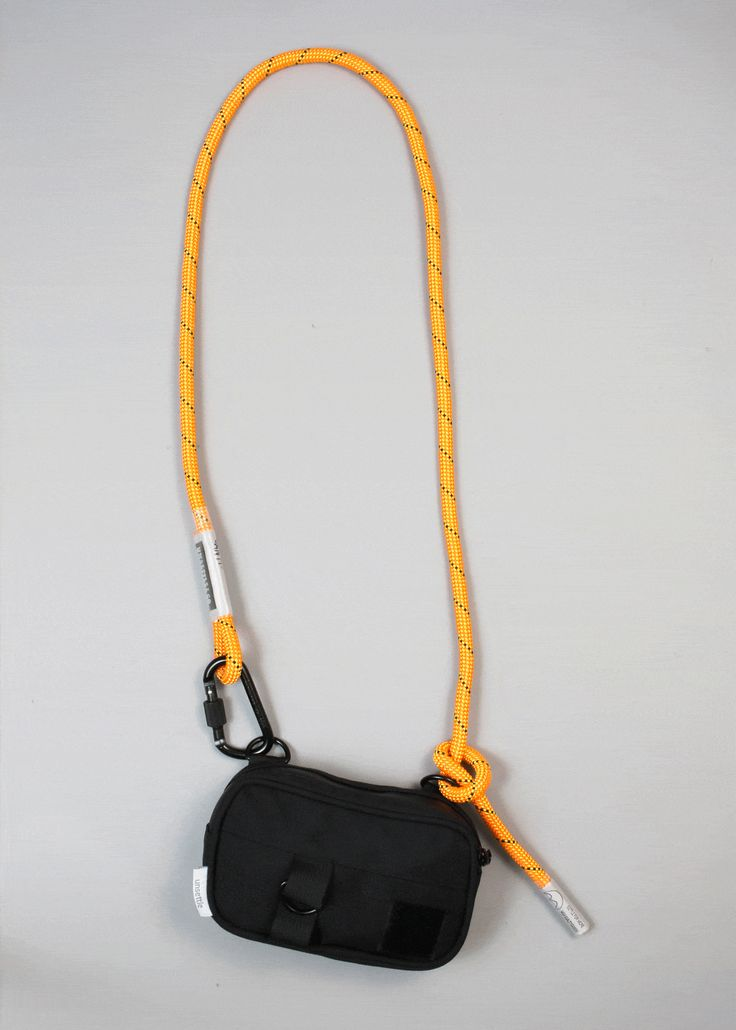nylon: (199, 759, 484, 972)
